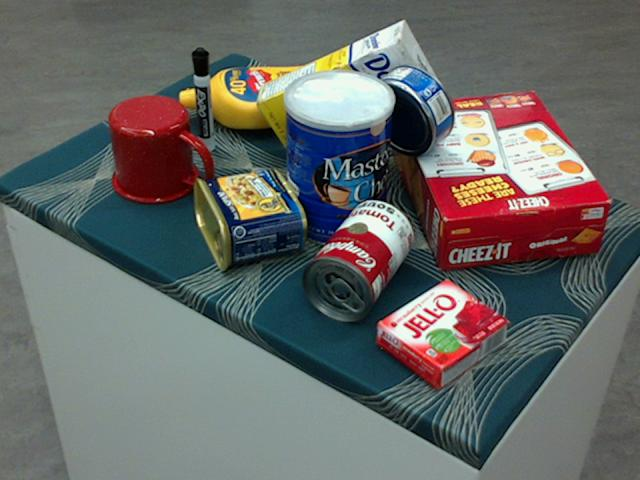cracker_box: (389, 90, 608, 269)
gelatin_box: (376, 279, 508, 387)
large_marker: (189, 46, 215, 151)
master_chef_can: (282, 70, 393, 249)
mug: (108, 94, 210, 204)
mustard_bottle: (177, 62, 347, 127)
potted_meat_can: (190, 167, 306, 271)
sugar_box: (252, 20, 442, 166)
tomato_soup_can: (299, 199, 414, 320)
tuna_fish_can: (366, 62, 455, 154)
